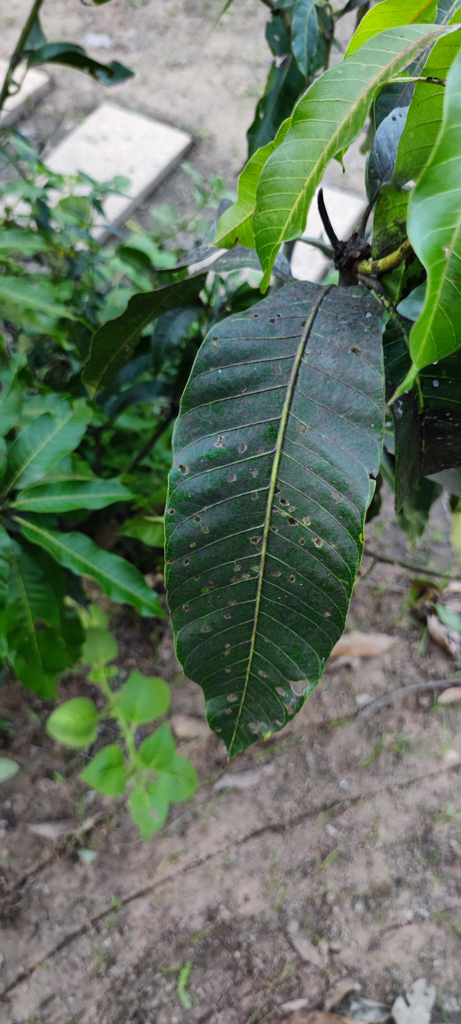Sooty mold: (194, 293, 380, 478)
